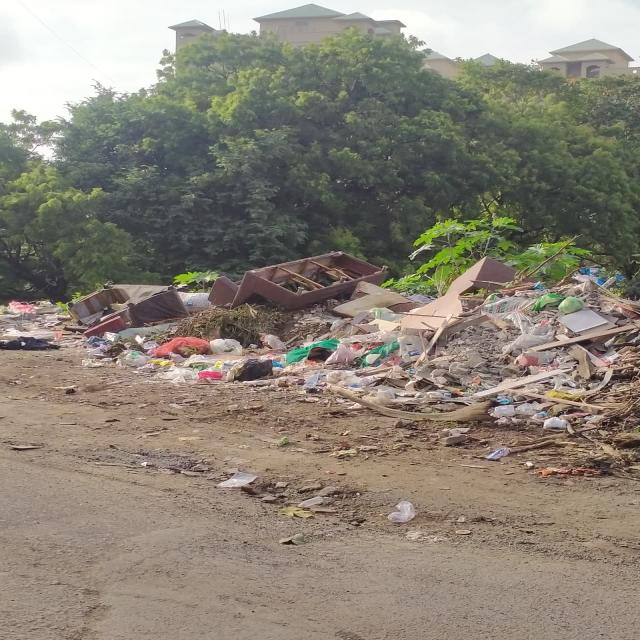garbage: (248, 252, 640, 477), (0, 281, 246, 379)
